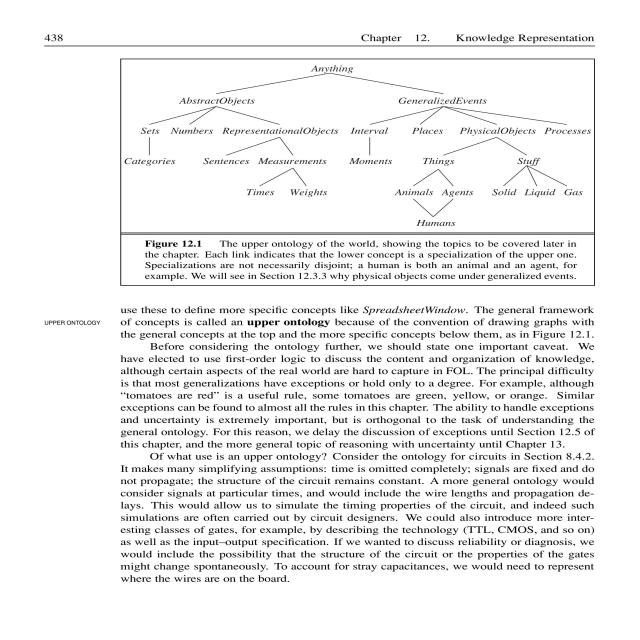diagram: (122, 57, 607, 287)
